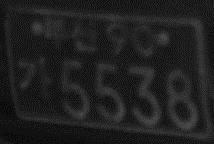0: (130, 23, 156, 57)
3: (126, 64, 162, 128)
5: (93, 59, 125, 124), (59, 57, 92, 118)
8: (161, 67, 198, 131)
9: (102, 20, 130, 55)
가: (17, 55, 54, 105)
부산_O: (42, 16, 100, 55)
